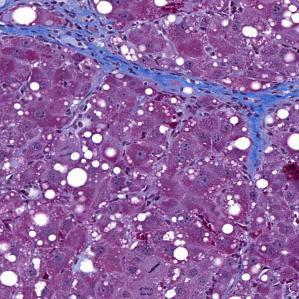fibrosis: (59, 15, 149, 78), (183, 76, 284, 124)
